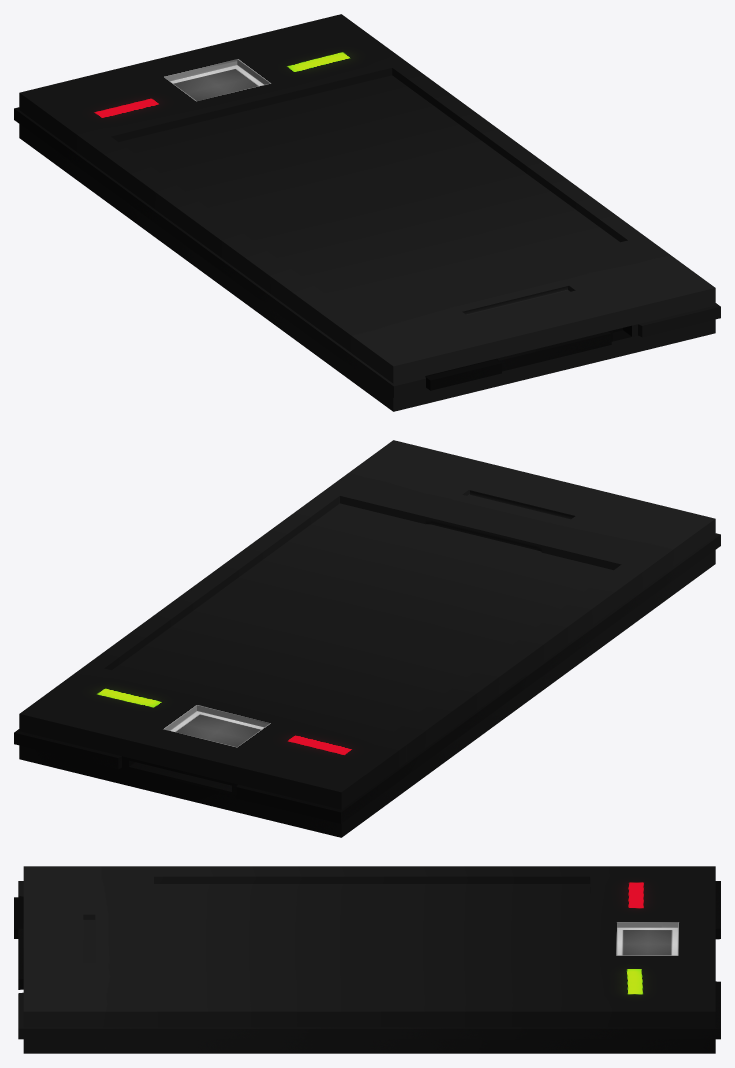
Rendered from phone_textured_matte.fbx.
3 renders of one model, top to bottom at view 1: azimuth 30°, elevation 25°; view 2: azimuth 150°, elevation 25°; view 3: azimuth 270°, elevation 25°, orthographic. The views are drawn at different scales.
Visible parts, largest first — view 1: mobile:pCube1; view 2: mobile:pCube1; view 3: mobile:pCube1.
Boxes of the visible parts, x1,y1,x2,y2 form: mobile:pCube1: (14, 14, 720, 411); mobile:pCube1: (14, 440, 720, 837); mobile:pCube1: (14, 866, 720, 1053).
Bounding box in the file's own units: 3.55 × 0.5341 × 7.19.
Materials: 1 (1 with a texture image).
